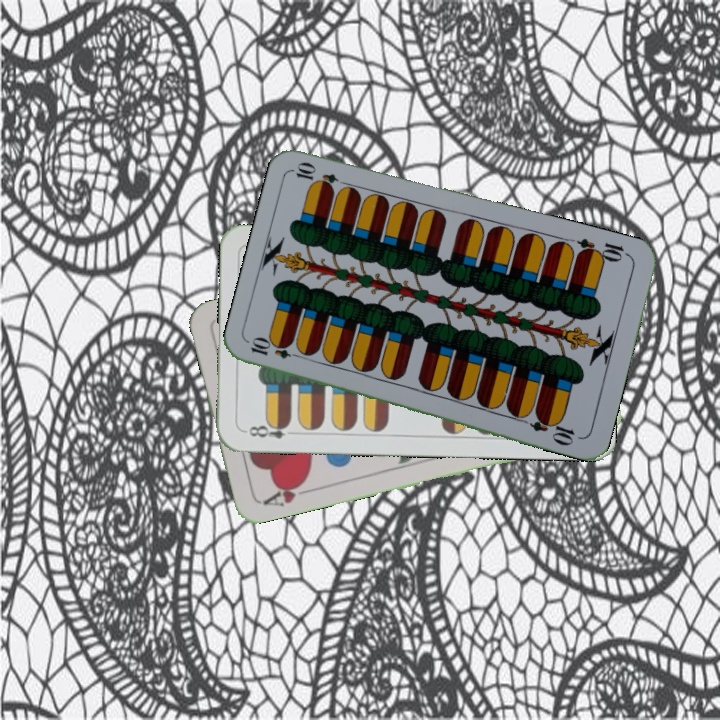E10: (573, 234, 632, 265), (247, 336, 306, 362)
E8: (240, 418, 299, 441)
HA: (258, 476, 309, 510)
